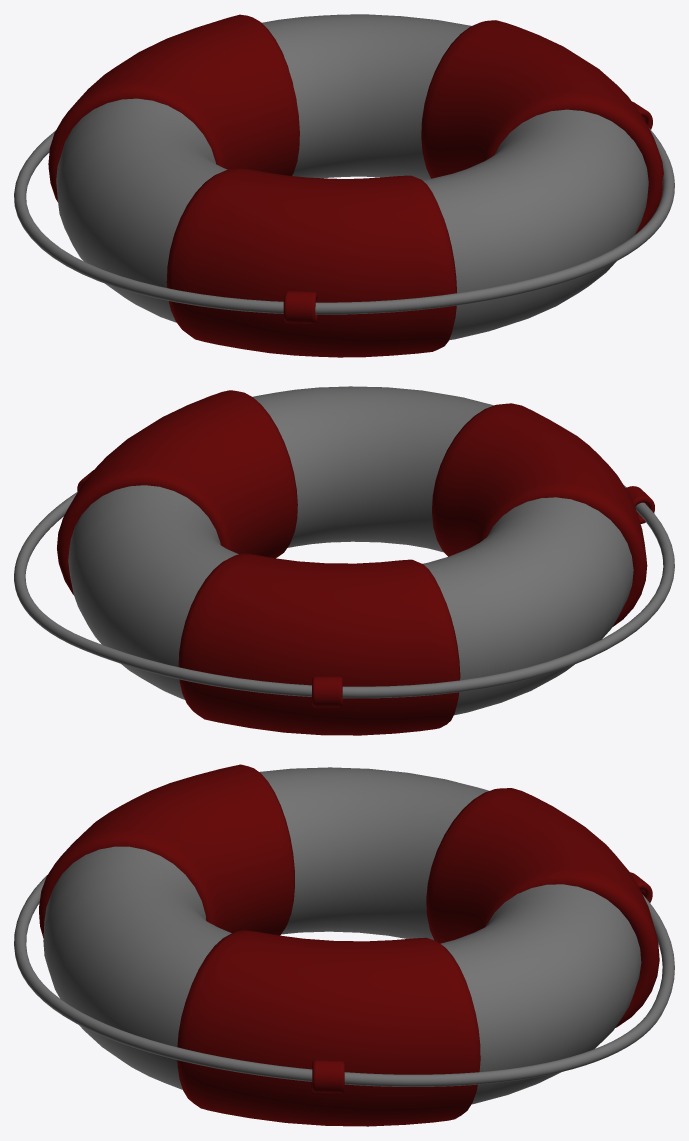
Rendered from lifebuoy.obj.
The picture shows the model from 3 angles, top to bottom: view 1: azimuth 30°, elevation 25°; view 2: azimuth 150°, elevation 25°; view 3: azimuth 270°, elevation 25°; orthographic projection. The views are drawn at different scales.
Visible parts, largest first — view 1: Circle.001, rubber_ring, BézierCircle, Cylinder.007; view 2: Circle.001, rubber_ring, BézierCircle, Cylinder.007; view 3: Circle.001, rubber_ring, BézierCircle, Cylinder.007.
Part boxes in pixels (bbox=[...]): Circle.001: bbox=[48, 14, 663, 357]; rubber_ring: bbox=[56, 14, 648, 340]; BézierCircle: bbox=[14, 128, 674, 314]; Cylinder.007: bbox=[283, 101, 652, 323]; Circle.001: bbox=[57, 390, 647, 735]; rubber_ring: bbox=[68, 386, 633, 715]; BézierCircle: bbox=[14, 485, 674, 698]; Cylinder.007: bbox=[77, 470, 654, 707]; Circle.001: bbox=[39, 764, 659, 1126]; rubber_ring: bbox=[43, 767, 641, 1104]; BézierCircle: bbox=[14, 875, 674, 1086]; Cylinder.007: bbox=[311, 872, 652, 1093].
Size of the model in its own units: 1.19 by 0.337 by 1.14.
